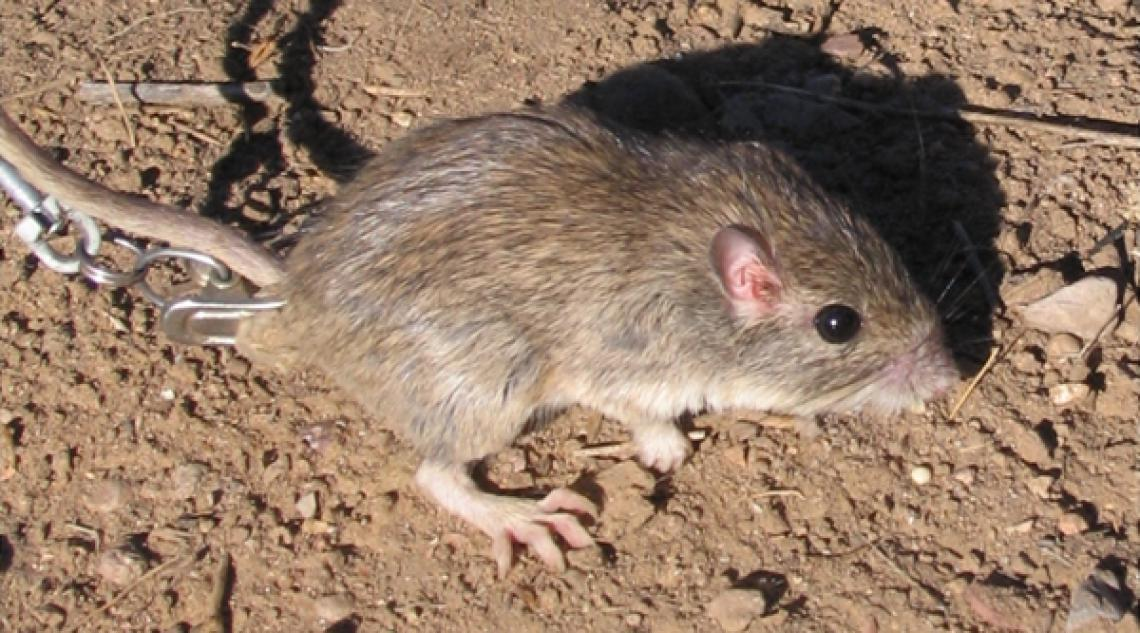rat: (3, 110, 959, 582)
